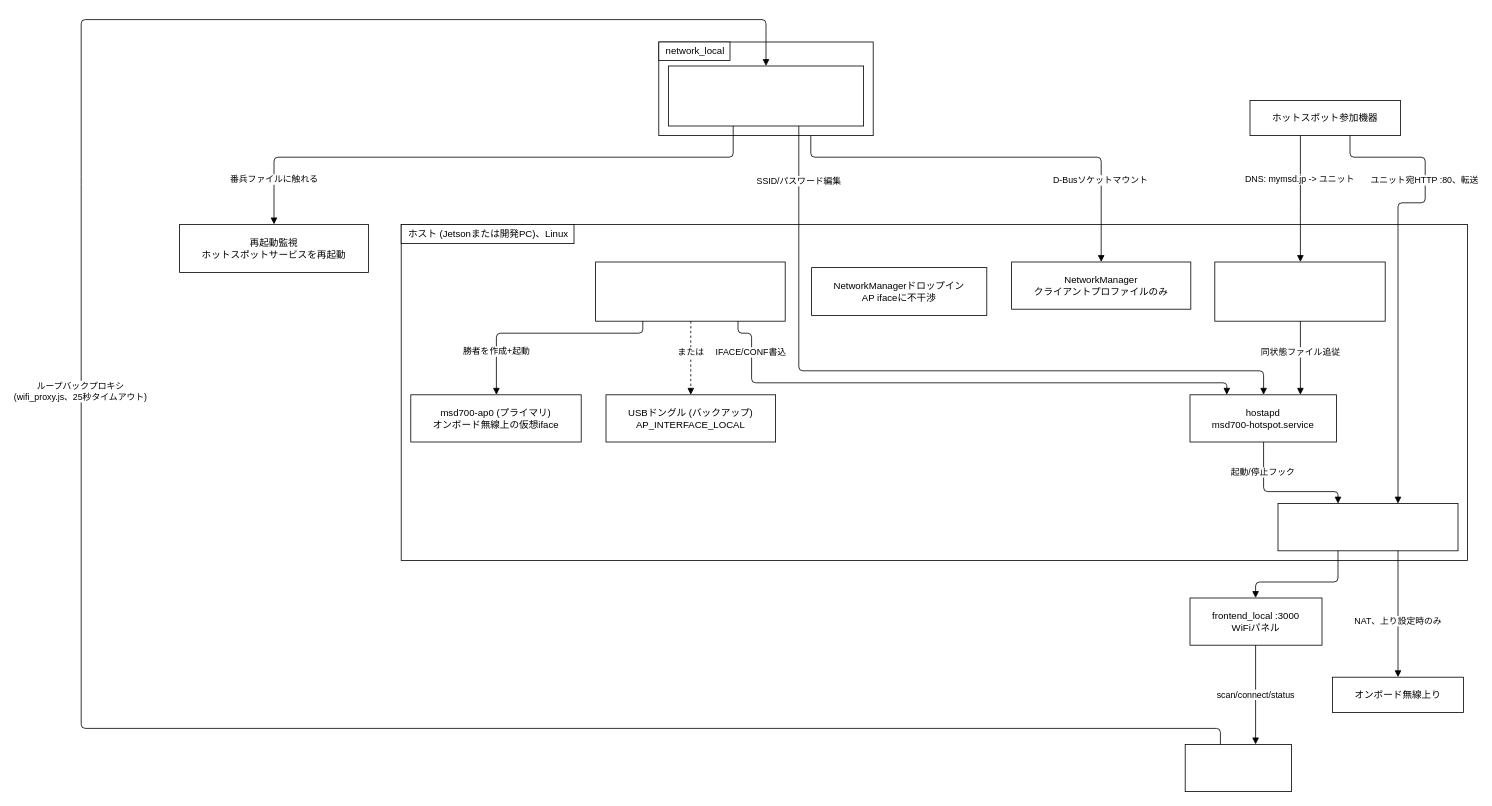
Image size: 1492x806. Some labels were removed from this diagram. The shapes that lost their labels are listed below. From the top down, each one's box as (x1, y1, x2, y2) in pixels, then its label:
(668, 65, 864, 126): network-agent (Node) ループバック :5011 ホストネットワーク、NET_ADMIN
(595, 261, 785, 321): msd700-hotspot-select-iface.sh プライマリ/バックアップ選択、 /run/msd700-hotspot-activeへ書込
(1214, 261, 1385, 321): dnsmasq msd700-hotspot-dhcp.service DHCP + 単一ホスト名
(1277, 503, 1458, 551): msd700-hotspot-firewall.sh ダッシュボード転送 + NAT中継
(1184, 744, 1292, 792): backend_local /local/wifi/*
